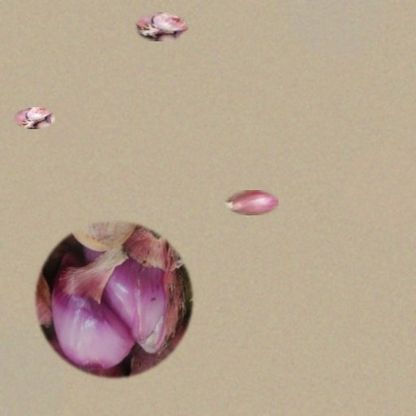damaged: (31, 216, 197, 383)
healthy: (225, 190, 279, 215)
sprouted: (133, 12, 188, 41), (14, 107, 55, 129)
